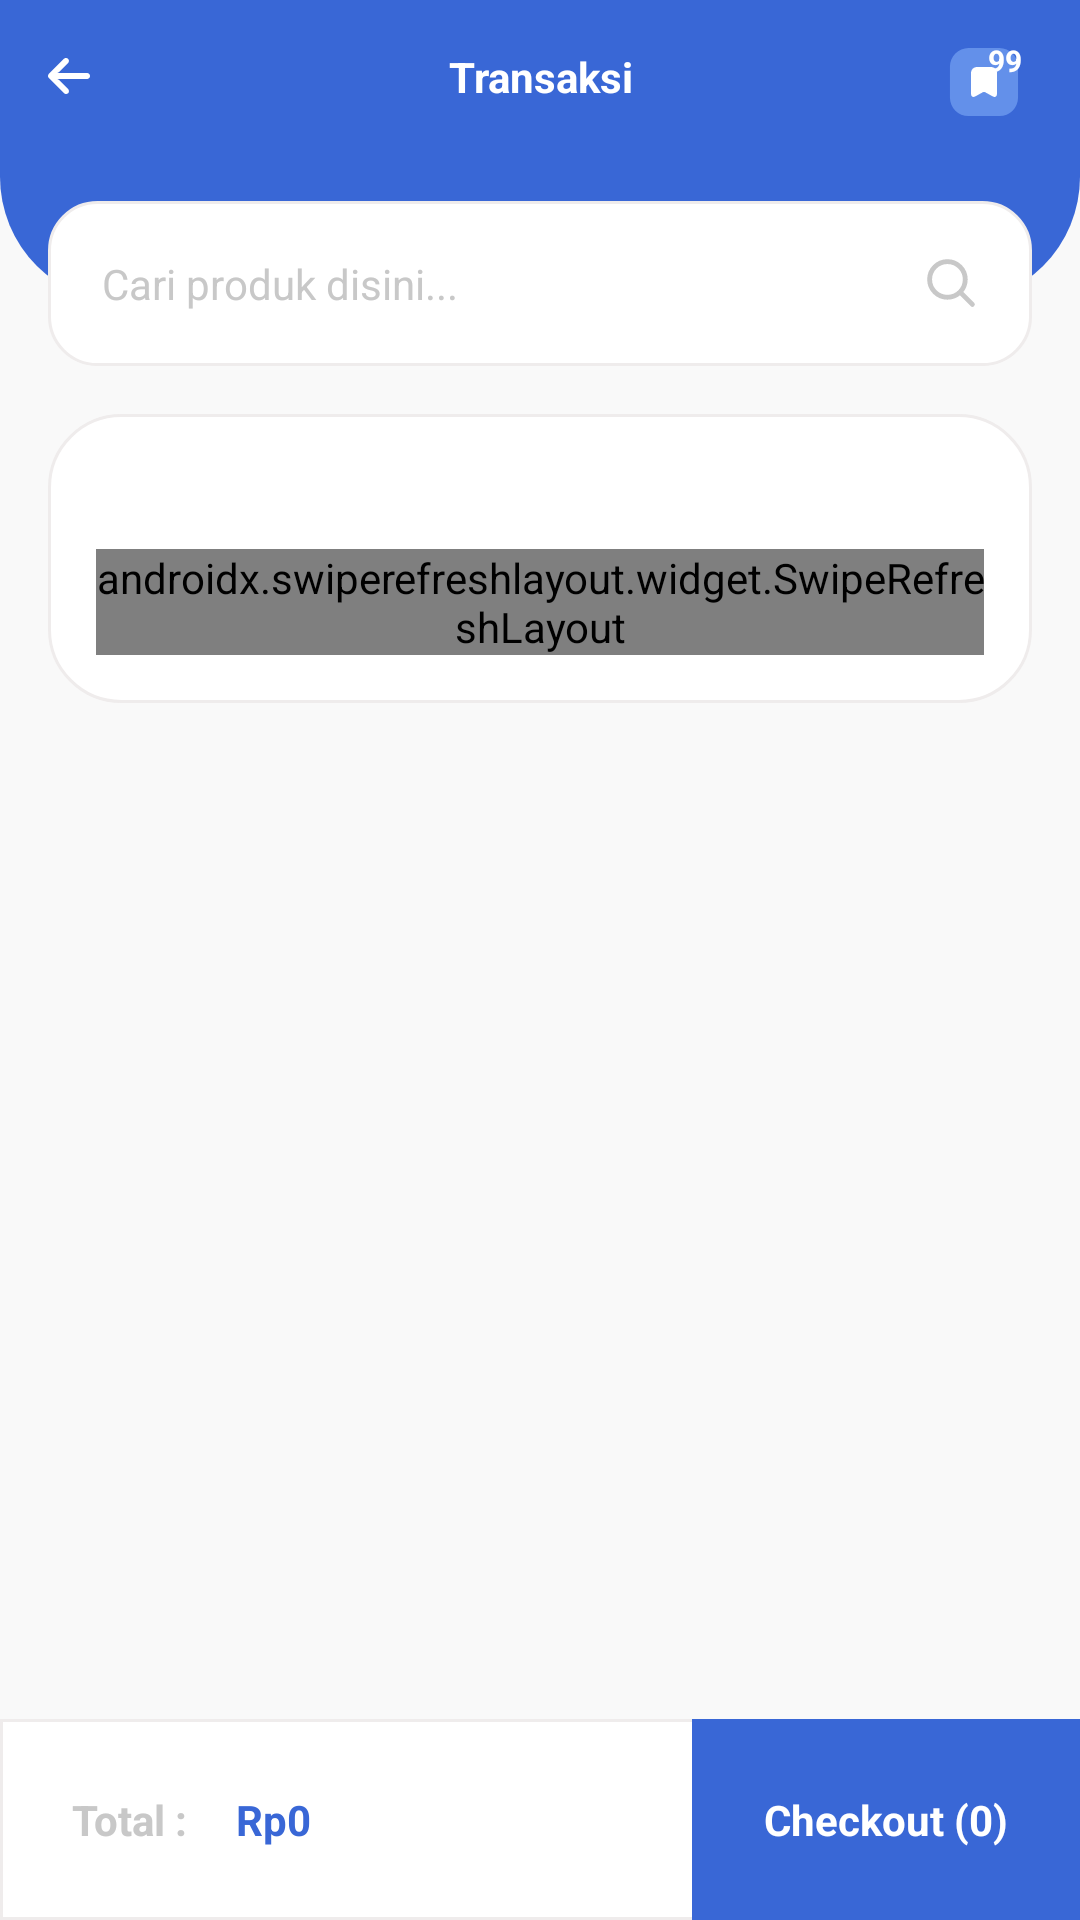

Screen size 1080 × 1920. Icon name, then its center in pixels as point (x, y):
arrow: point (69, 76)
save: point (985, 82)
